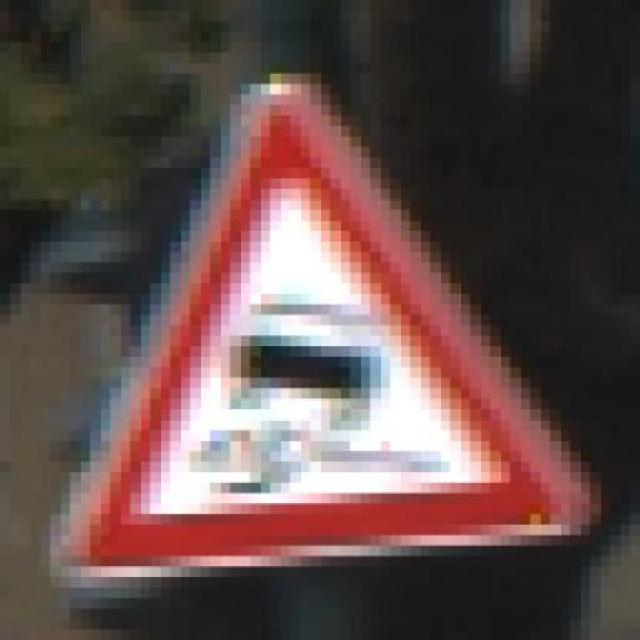Slippery Road Ahead: (56, 51, 606, 608)
